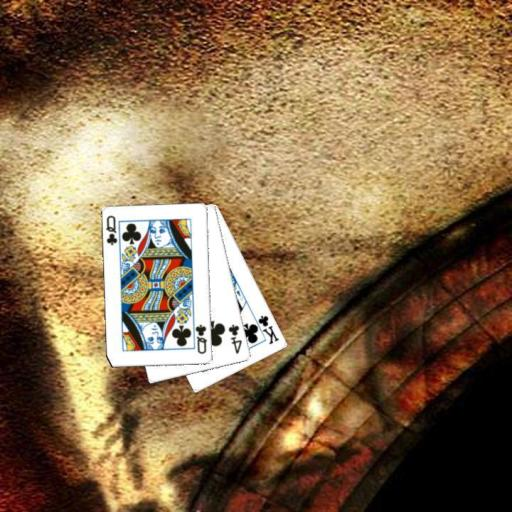4C: (225, 322, 244, 356)
KC: (250, 312, 280, 346)
QC: (103, 213, 119, 247), (193, 322, 208, 356)
